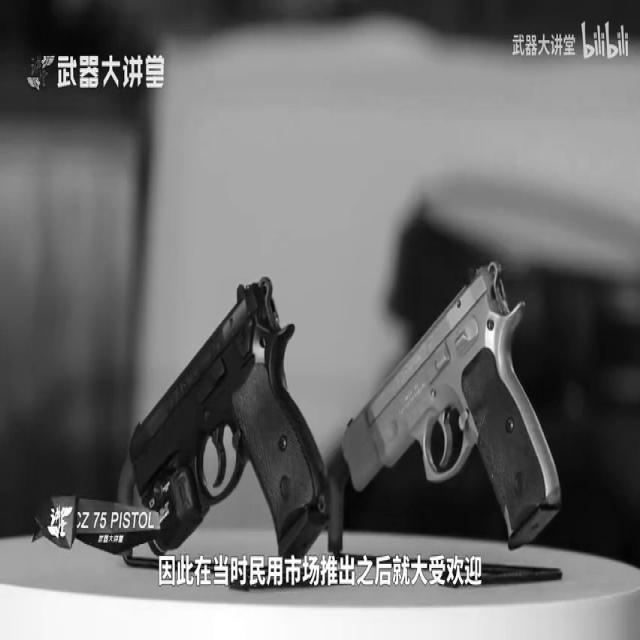Hand-Gun: (342, 253, 565, 564), (125, 264, 333, 555)
